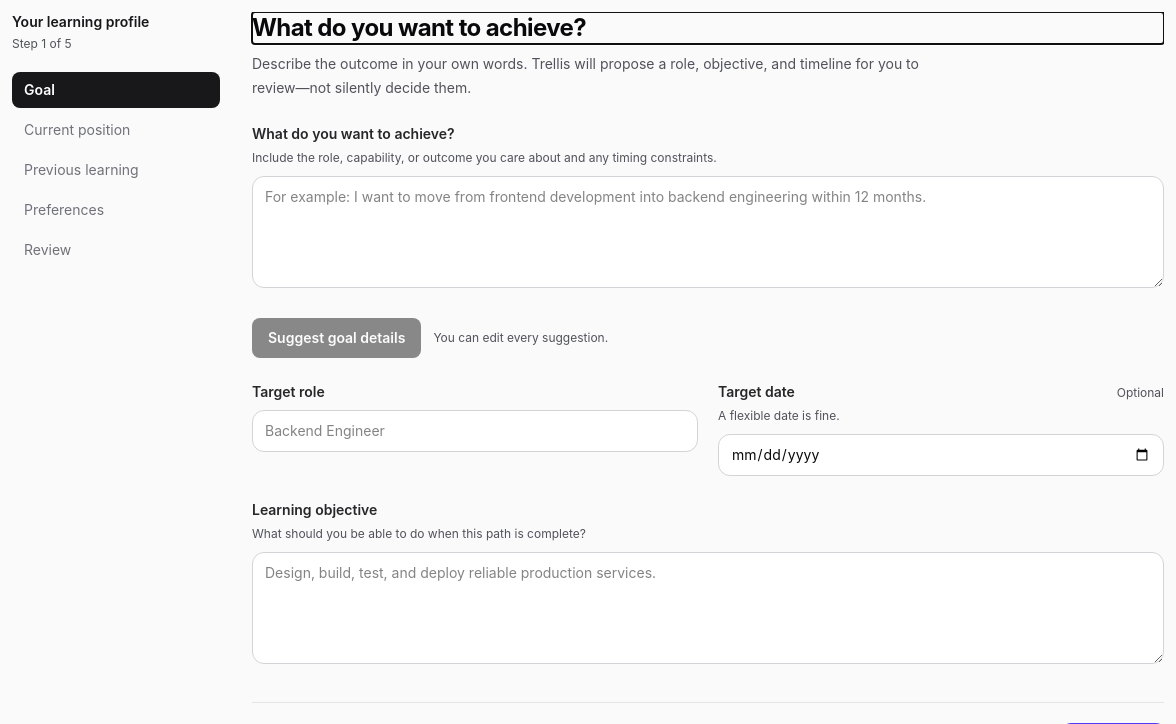
Test: OnboardingWizard › lets the learner review a structured goal proposal
Replace the text in the text box labelled "What do you want to achieve?" with "I want to become a backend engineer in twelve months." at (708, 232), box [252,176,1164,288]
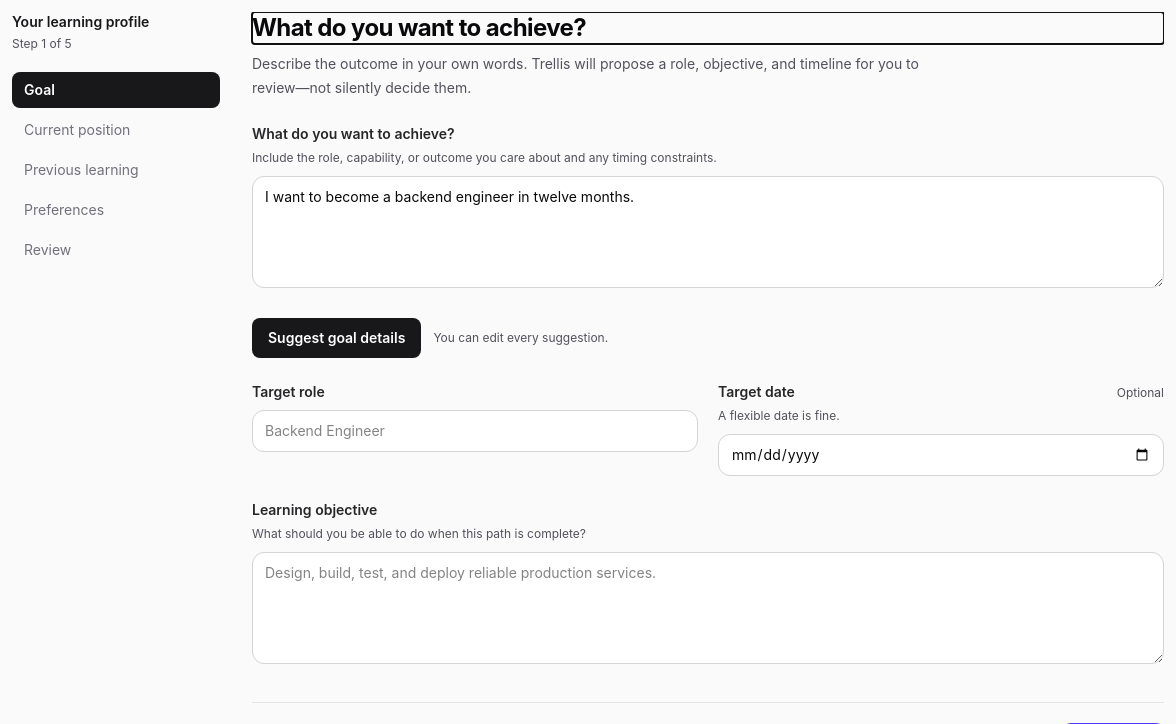
Click the button "Suggest goal details" at (337, 338), box [252,318,421,358]
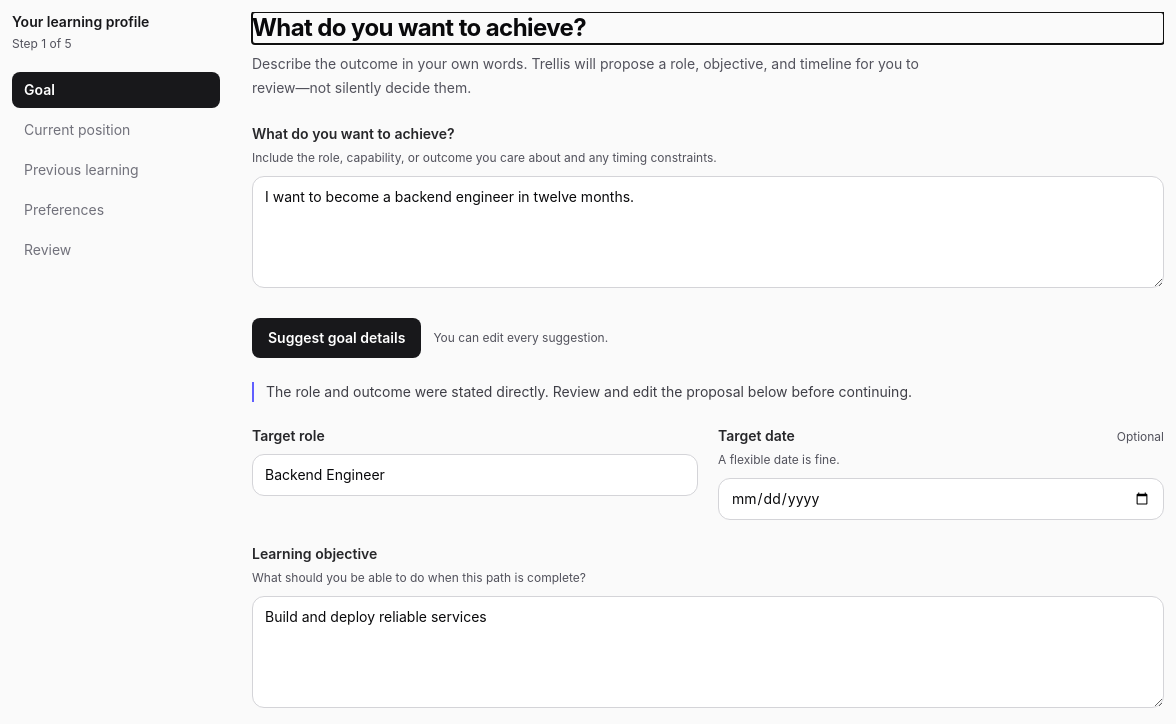
Now the field labelled "Target role" holds "Backend Engineer", box [252,454,698,496]
Now the text box labelled "Learning objective" holds "Build and deploy reliable services", box [252,596,1164,708]
Now the text "The role and outcome were stated directly" is shown, box [266,383,549,400]
